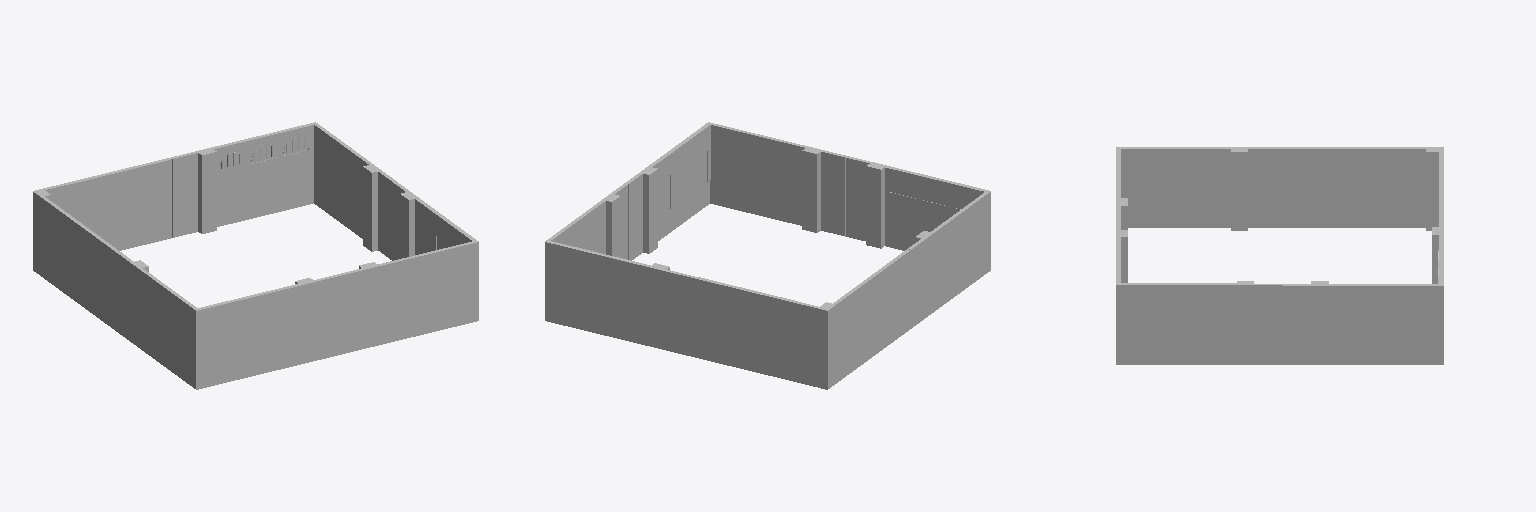
Rendered from walls1.obj.
3 views of the same model, side by side, from view 1: azimuth 30°, elevation 25°; view 2: azimuth 150°, elevation 25°; view 3: azimuth 270°, elevation 25° (orthographic).
Parts seen in each view (by area): view 1: Box072.4; view 2: Box072.4; view 3: Box072.4.
Part boxes in pixels (x1,y1,x2,y2): Box072.4: (33,122,478,389); Box072.4: (545,122,990,389); Box072.4: (1116,147,1443,364).
Bounding box in the file's own units: 1124 × 300 × 1127.